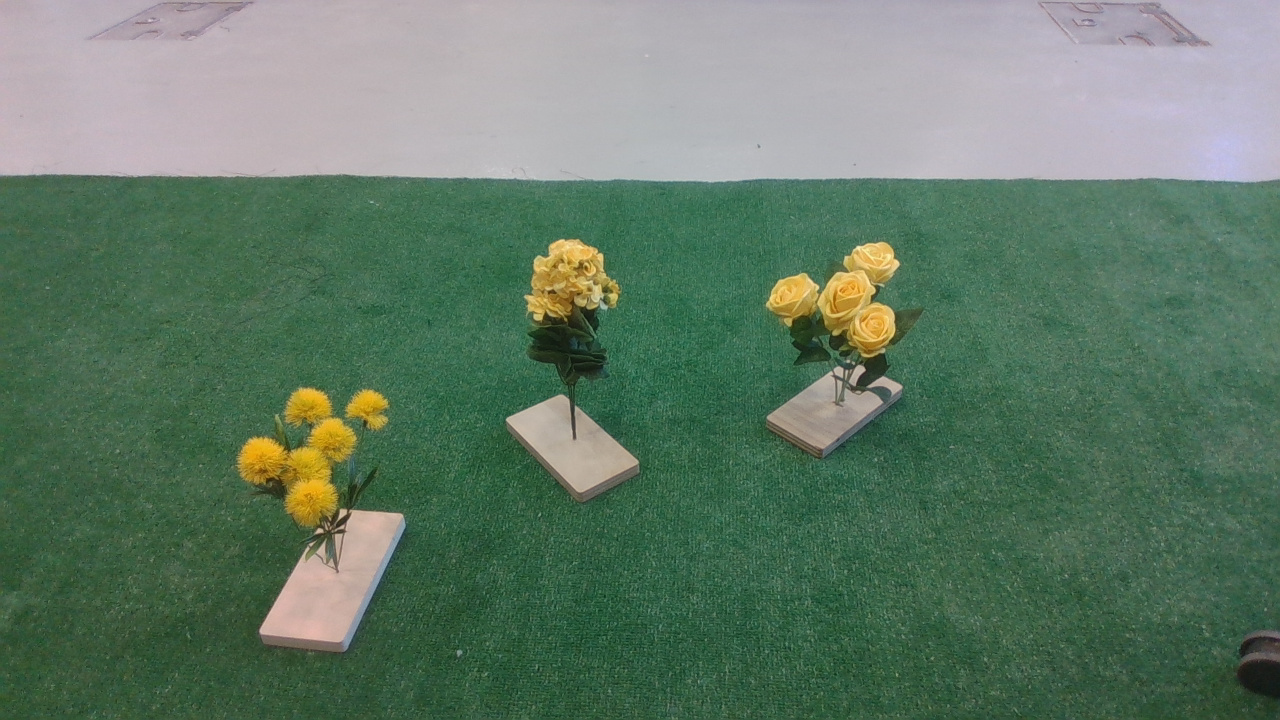dandelion: (233, 378, 410, 539)
geranium: (527, 234, 632, 396)
rose: (762, 243, 932, 376)
